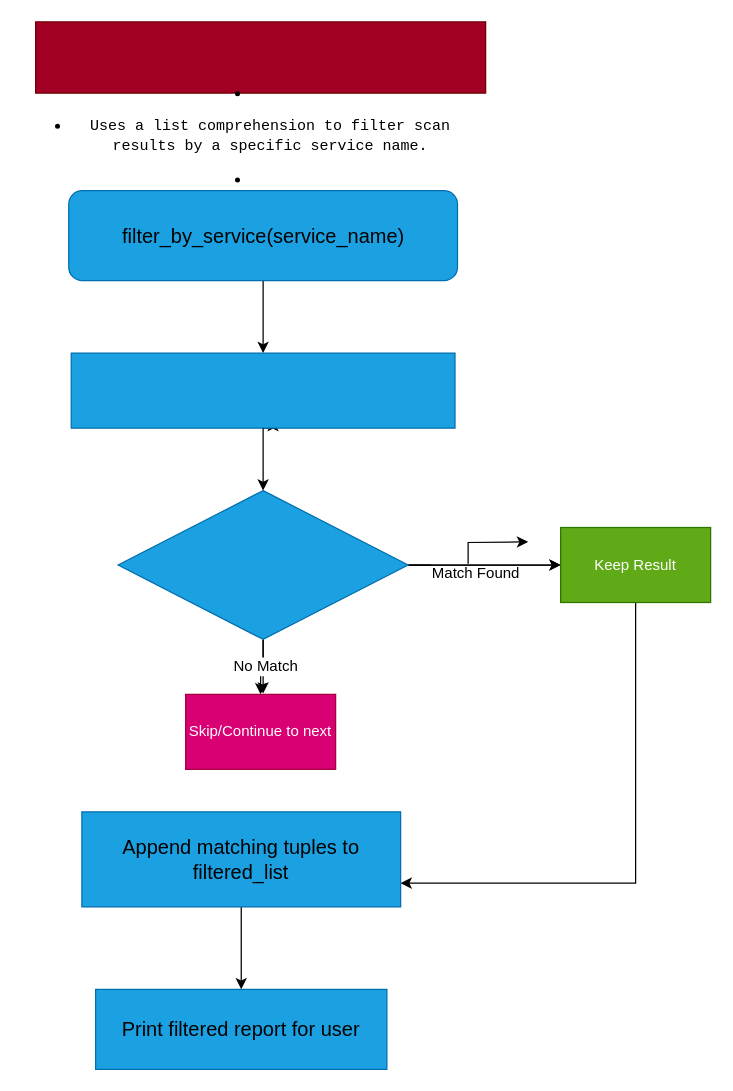
Image size: 733x1091. Some labels were removed from this diagram. The centre of each missing label's shape, as x and y in pixels:
Does result[2] == service_name?: point 262,564
Loop through each result in self.scan_results: point 262,390
Q5 Feature: Service Filter: point 260,57
